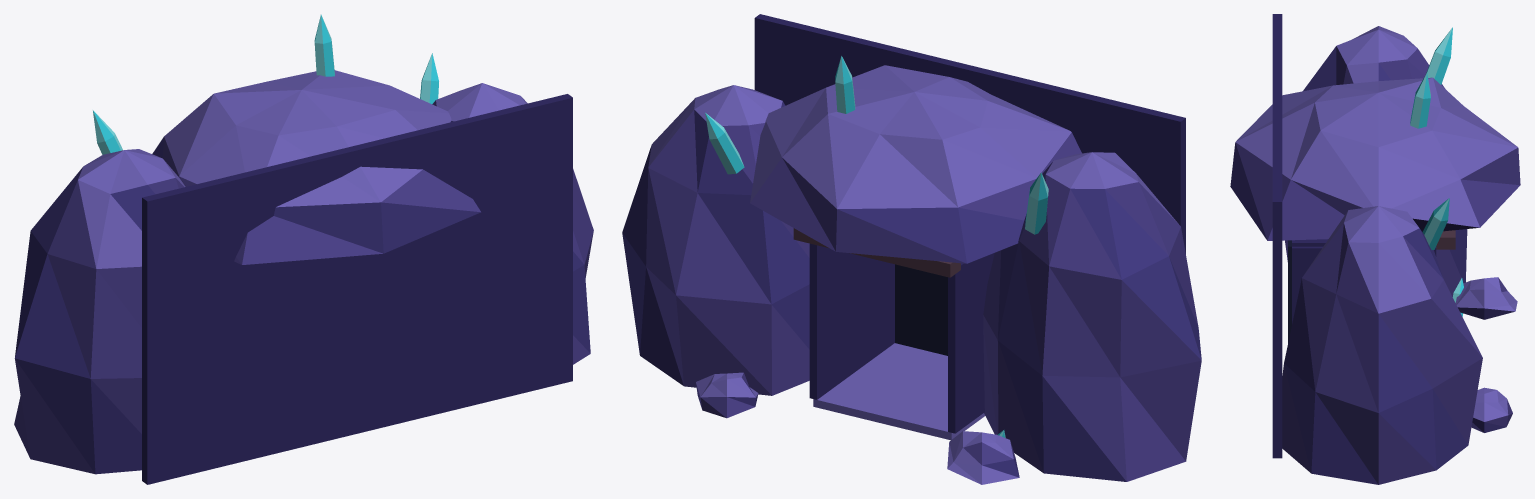
The model's file is Mine_Door_Crawl.obj.
3 views of the same model, side by side, from view 1: azimuth 30°, elevation 25°; view 2: azimuth 150°, elevation 25°; view 3: azimuth 270°, elevation 25° (orthographic). The views are drawn at different scales.
Parts seen in each view (by area): view 1: Mine_Door_Crawl; view 2: Mine_Door_Crawl; view 3: Mine_Door_Crawl.
Boxes of the visible parts, x1,y1,x2,y2 form: Mine_Door_Crawl: (14, 14, 593, 484); Mine_Door_Crawl: (622, 14, 1201, 484); Mine_Door_Crawl: (1230, 14, 1520, 484).
Bounding box in the file's own units: 6.29 × 3.71 × 3.01.
